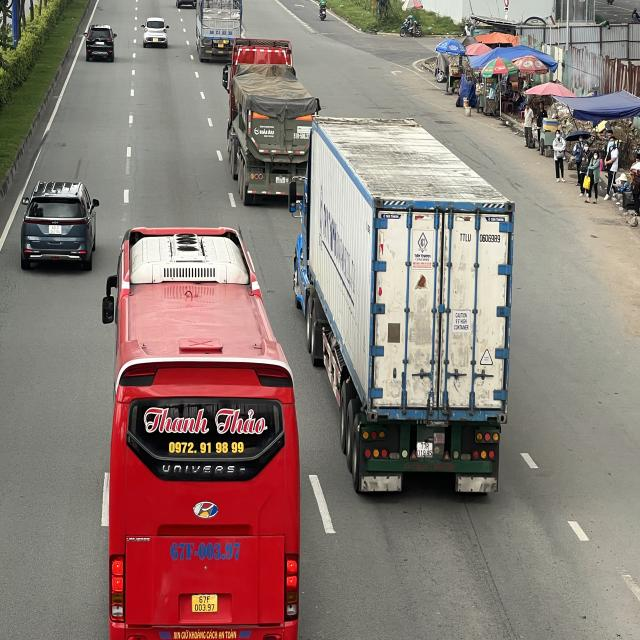car: (20, 180, 100, 272), (85, 25, 116, 62), (143, 17, 170, 48), (87, 25, 115, 45)
coach: (102, 226, 301, 636)
container: (292, 126, 511, 498), (222, 39, 318, 202)
truck: (195, 0, 246, 62)
